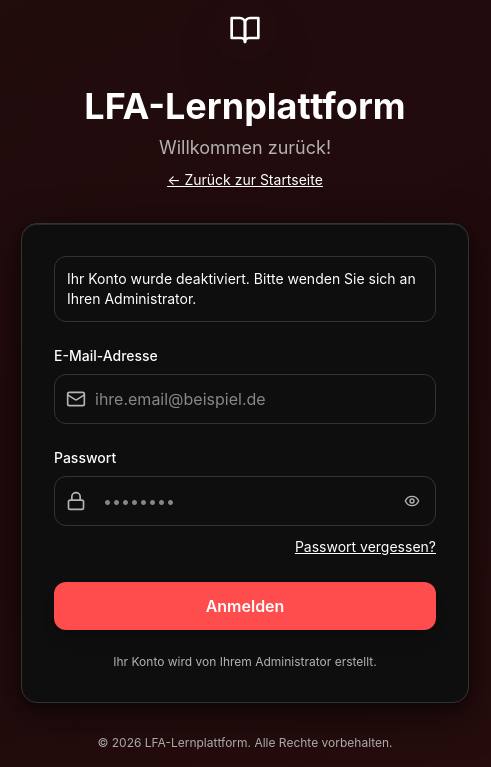
Test: LoginForm reasons and blocked sign ins › the banner of a return to the login › the banner goes away when the person submits
Type "azubi@example.com" into the field labelled "E-Mail-Adresse" at (245, 398), box [54,374,436,424]
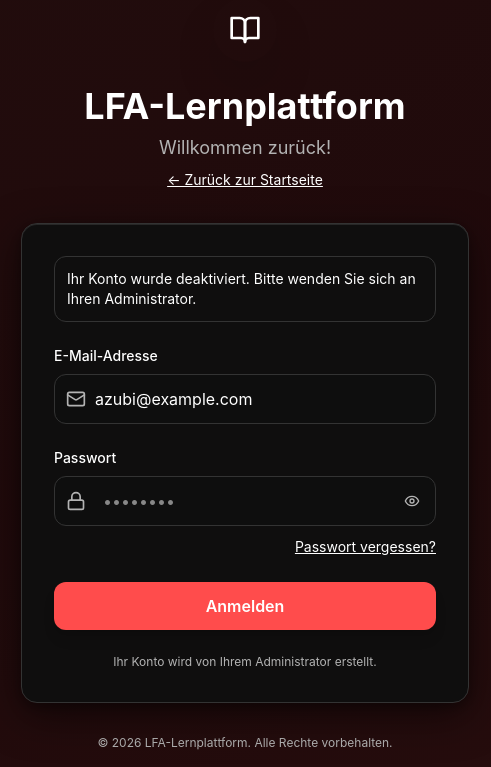
Type "geheim" into the password field labelled "Passwort" at (245, 500), box [54,476,436,526]
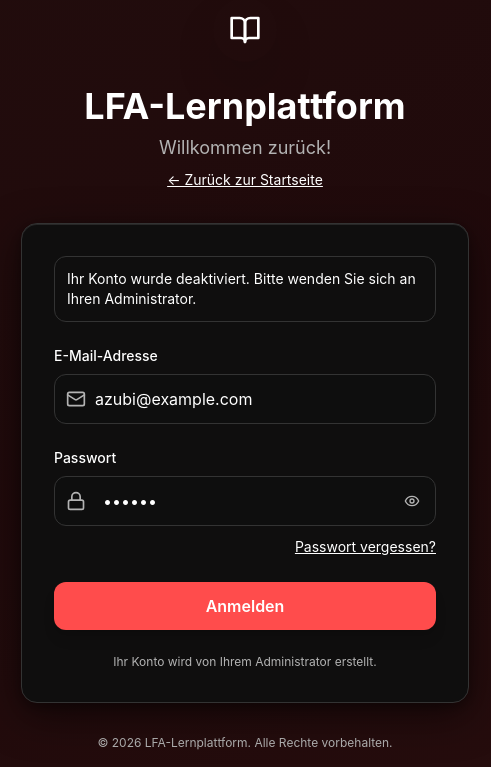
Click the button "Anmelden" at (245, 606), box [54,582,436,630]
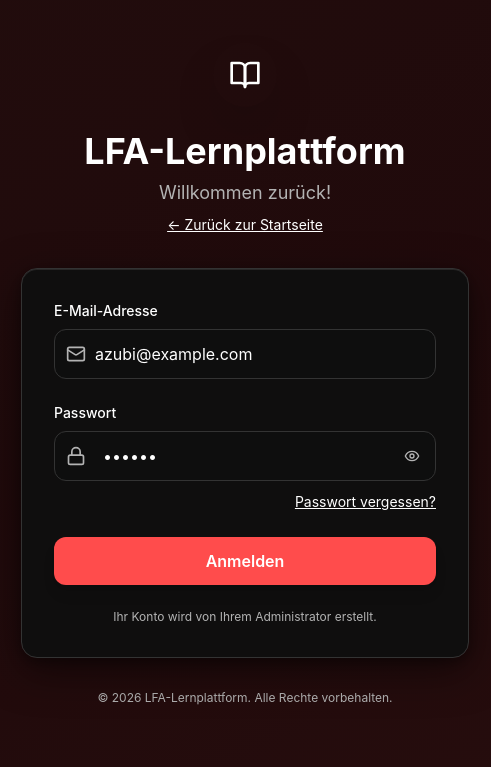
Check: the message "Ihr Konto wurde deaktiviert. Bitte wenden Sie sich an Ihren Administrator." is gone
